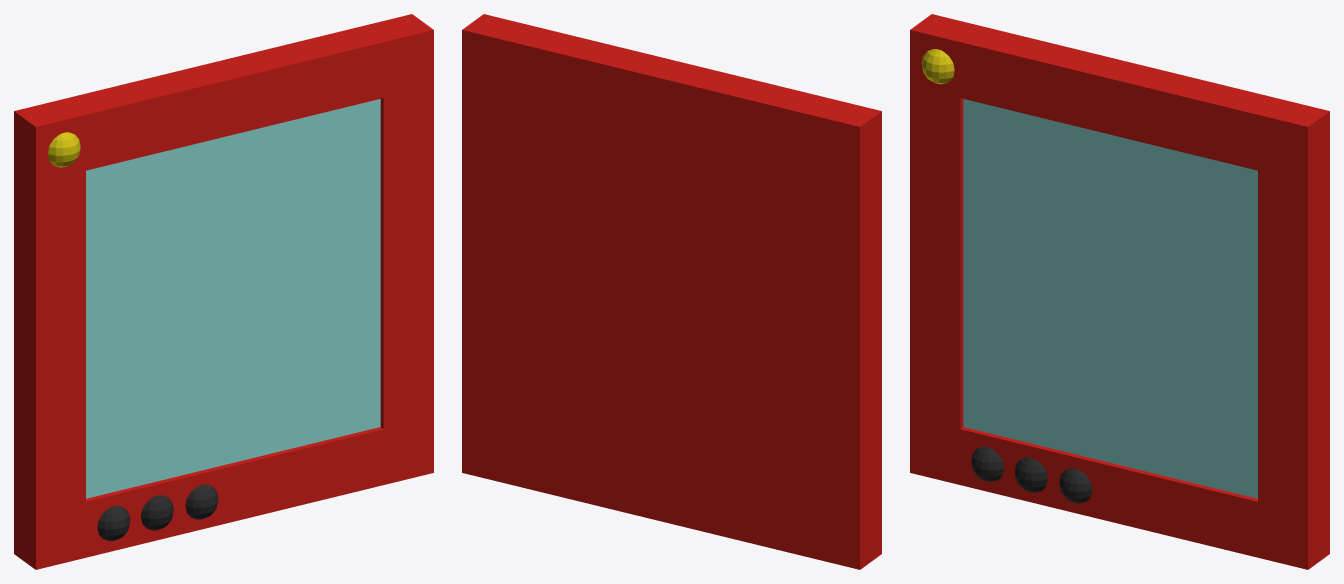
File: voltageMeter.fbx
The picture shows the model from 3 angles, left to right: view 1: azimuth 30°, elevation 25°; view 2: azimuth 150°, elevation 25°; view 3: azimuth 330°, elevation 25°; orthographic projection.
Visible parts, largest first — view 1: Plane; view 2: Plane; view 3: Plane.
Part boxes in pixels (x1,y1,x2,y2): Plane: (14,14,433,569); Plane: (462,14,881,569); Plane: (910,14,1329,569).
Bounding box in the file's own units: 434 × 462 × 53.95.
